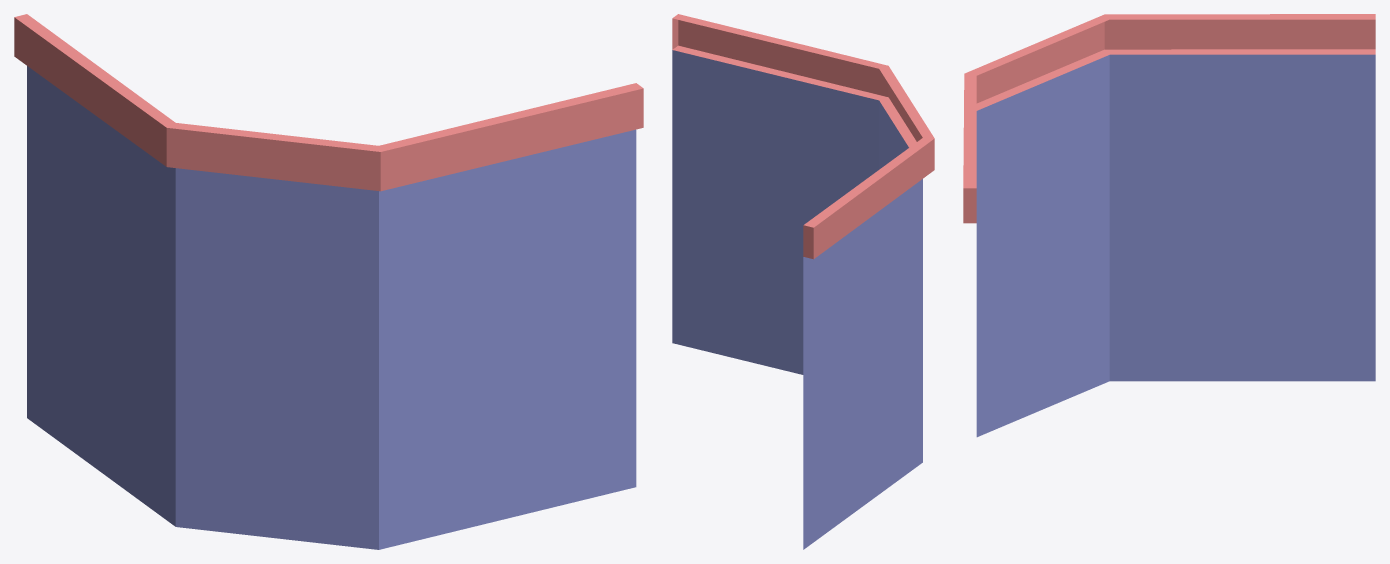
File: CornerWall.FBX
3 views of the same model, side by side, from view 1: azimuth 30°, elevation 25°; view 2: azimuth 150°, elevation 25°; view 3: azimuth 270°, elevation 25° (orthographic). The views are drawn at different scales.
Visible parts, largest first — view 1: CornerWall; view 2: CornerWall; view 3: CornerWall.
Boxes of the visible parts, x1,y1,x2,y2 form: CornerWall: [14, 14, 643, 549]; CornerWall: [672, 14, 934, 549]; CornerWall: [963, 14, 1375, 437].
Size of the model in its own units: 310 by 300 by 310.
